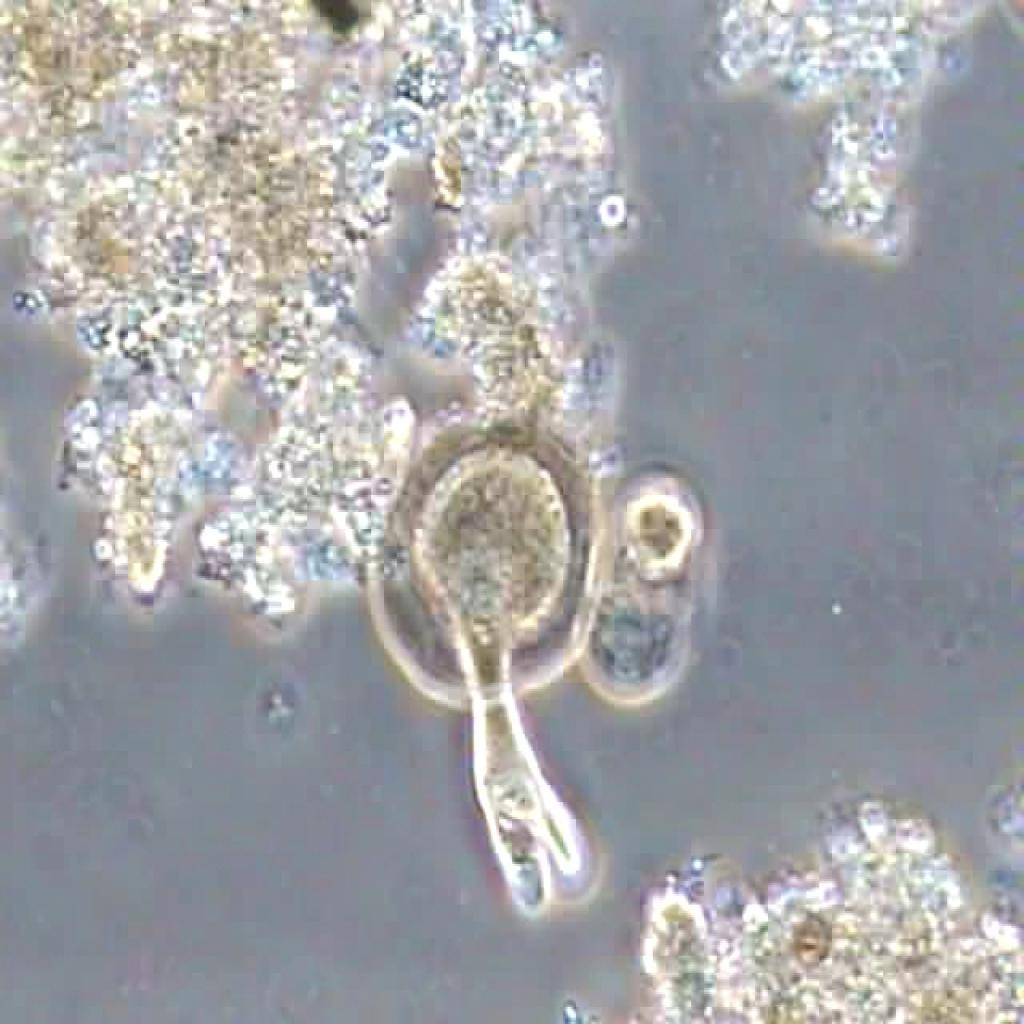Arcella: (355, 400, 611, 923)
